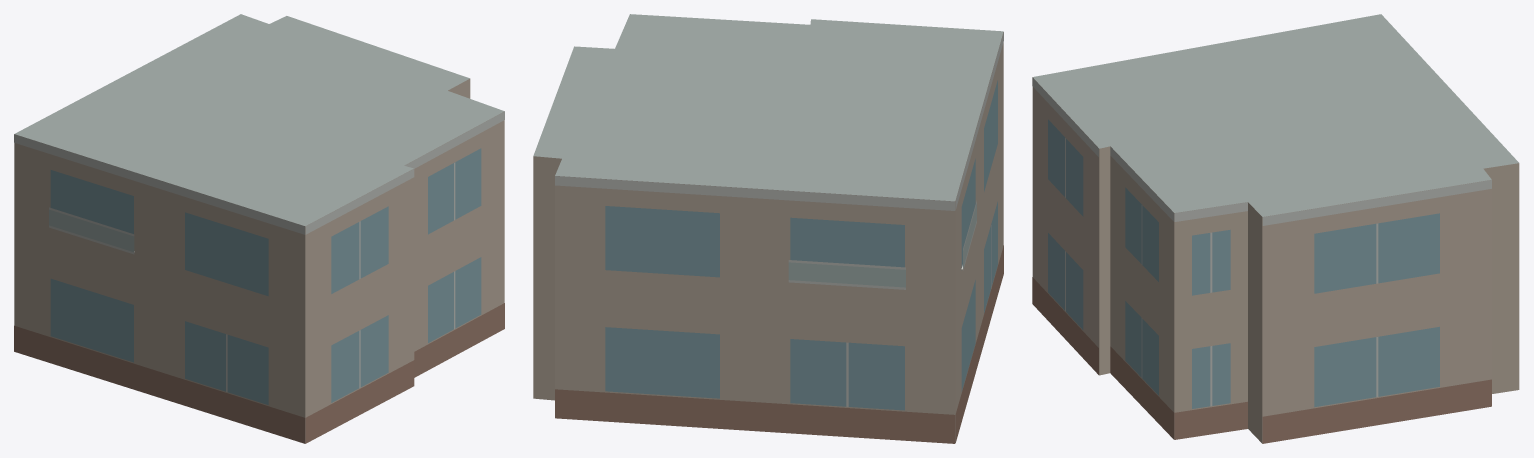
File: survey-upis-32676805.glb
3 renders of one model, left to right at view 1: azimuth 30°, elevation 25°; view 2: azimuth 150°, elevation 25°; view 3: azimuth 270°, elevation 25°, orthographic. The views are drawn at different scales.
Parts seen in each view (by area): view 1: survey-upis-32676805.tmp; view 2: survey-upis-32676805.tmp; view 3: survey-upis-32676805.tmp.
Part boxes in pixels (left/top/right/bottom): survey-upis-32676805.tmp: left=14, top=14, right=504, bottom=443; survey-upis-32676805.tmp: left=533, top=14, right=1003, bottom=443; survey-upis-32676805.tmp: left=1032, top=14, right=1519, bottom=443.
Bounding box in the file's own units: 11.72 × 6.1 × 11.88.
